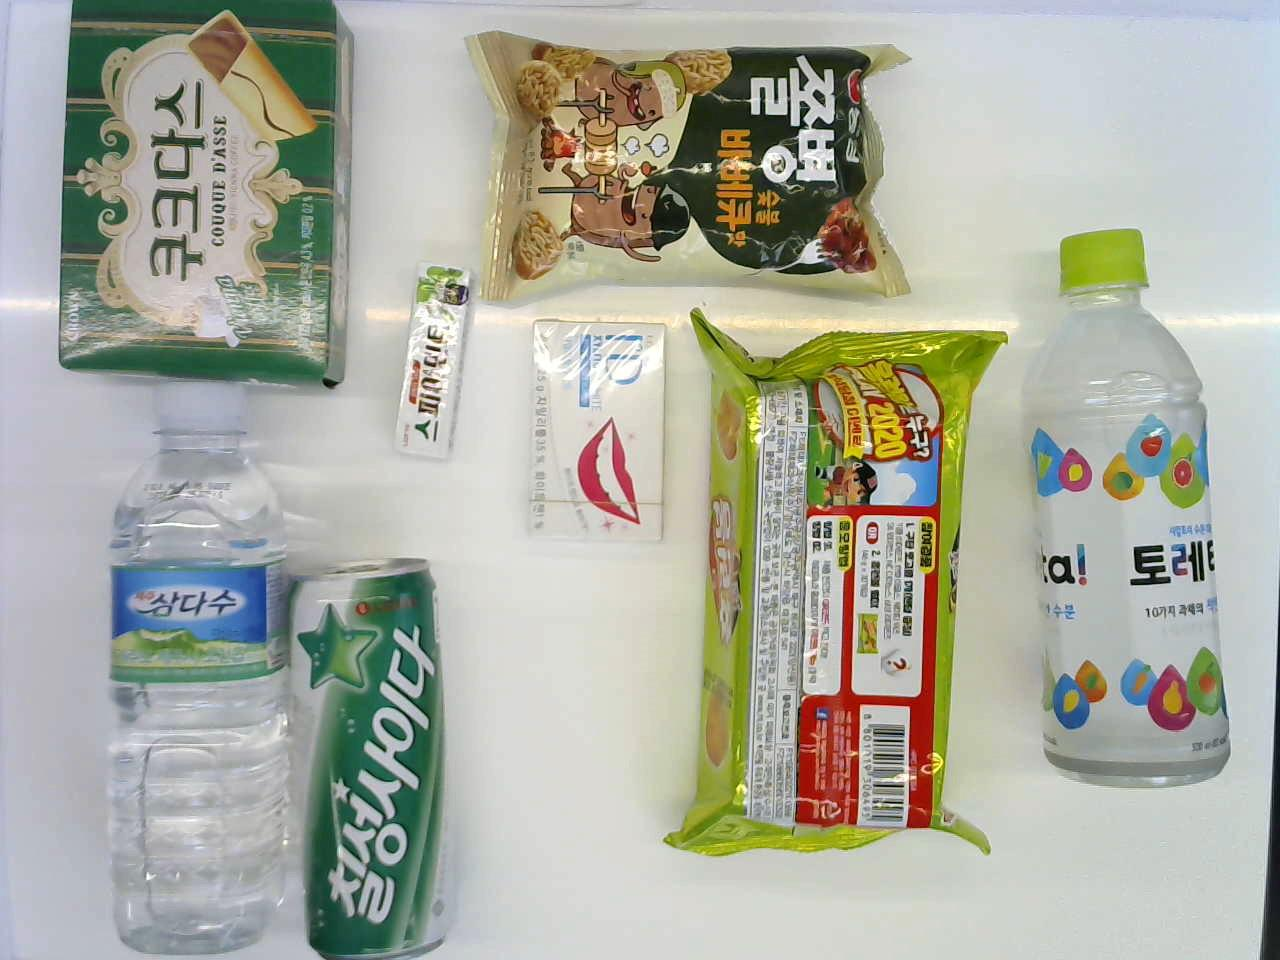ID_gum: (509, 302, 686, 560)
cidar: (287, 549, 459, 954)
couque_coffee: (33, 0, 355, 394)
homerunball: (672, 313, 1013, 859)
jjolbyung_ori: (463, 23, 912, 309)
samdasu: (86, 382, 295, 952)
spearmint: (396, 250, 468, 472)
toreta: (1013, 215, 1247, 812)
